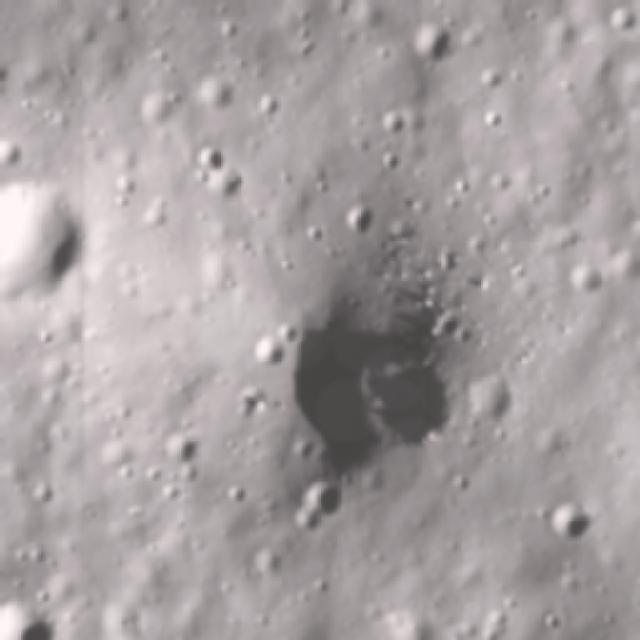crater: (351, 355, 463, 459), (284, 477, 348, 534), (1, 588, 58, 638), (543, 497, 595, 541), (409, 16, 454, 64), (191, 72, 237, 116), (154, 430, 200, 462), (248, 332, 286, 370), (564, 260, 604, 295), (248, 542, 282, 580), (531, 605, 567, 638), (473, 62, 507, 95), (342, 205, 375, 238), (372, 106, 410, 134), (252, 88, 279, 124), (606, 3, 637, 34), (138, 197, 168, 226), (191, 145, 227, 166), (108, 174, 134, 203), (289, 38, 323, 60), (28, 476, 52, 506), (222, 482, 248, 509), (308, 572, 334, 598), (442, 177, 470, 200), (372, 150, 401, 172), (369, 42, 394, 67), (112, 397, 134, 425), (486, 170, 512, 193), (474, 107, 504, 125), (313, 172, 333, 198), (483, 608, 509, 628), (161, 89, 181, 114), (302, 222, 326, 242), (217, 17, 237, 41), (111, 460, 132, 482), (190, 165, 210, 187), (60, 57, 75, 83), (40, 106, 58, 126), (16, 95, 35, 113), (33, 327, 53, 344), (592, 578, 608, 597), (291, 23, 314, 34)
